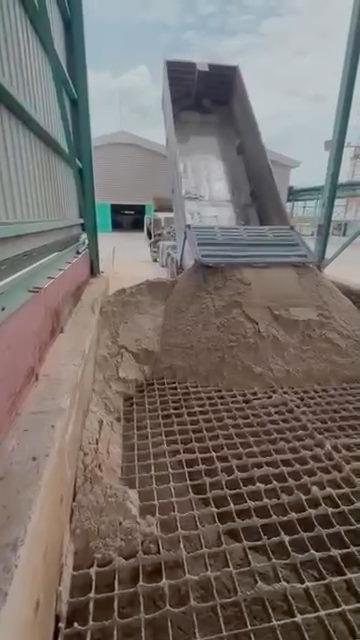sand: (74, 267, 360, 563)
